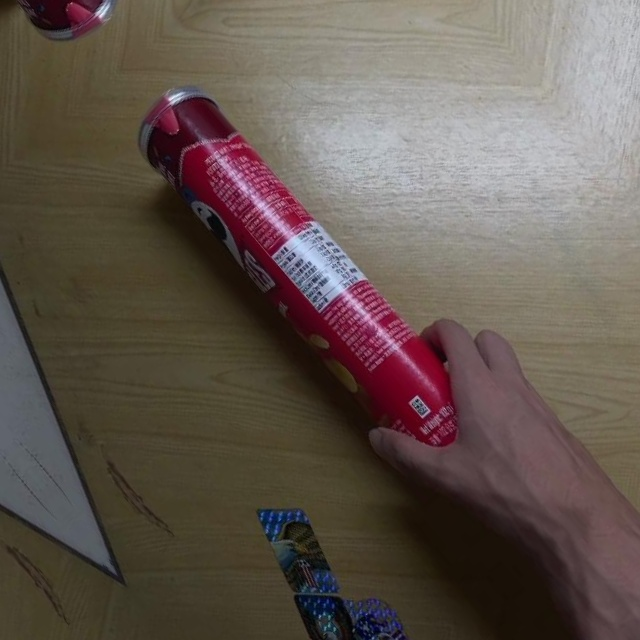Pringles: (120, 70, 547, 553)
